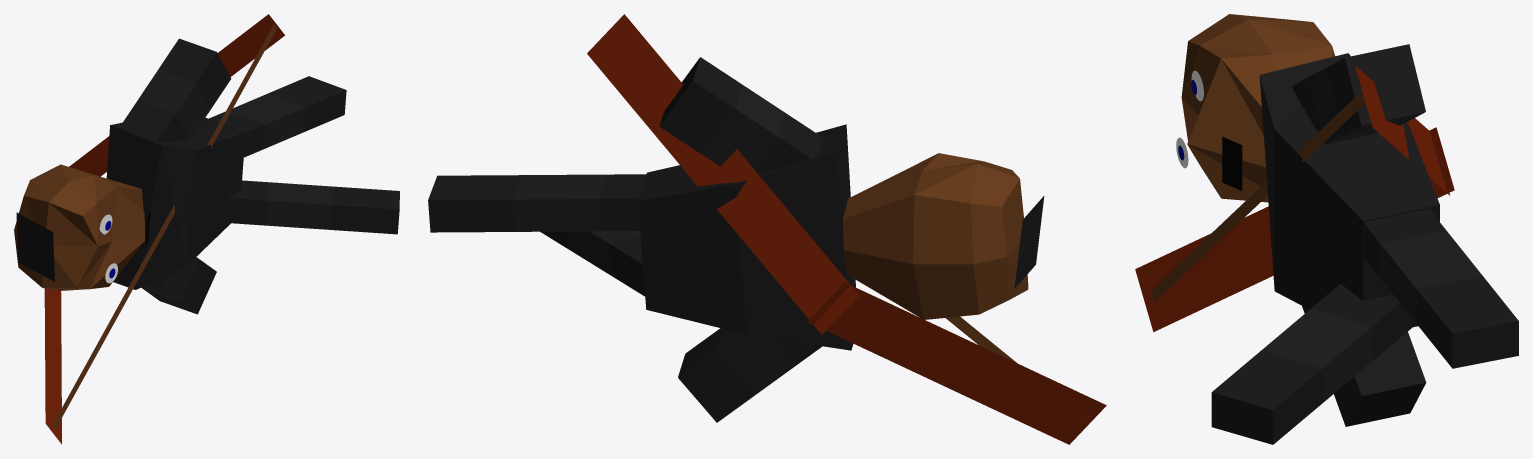
Rendered from heavyarcher3d.obj.
3 renders of one model, left to right at view 1: azimuth 30°, elevation 25°; view 2: azimuth 150°, elevation 25°; view 3: azimuth 270°, elevation 25°, orthographic. The views are drawn at different scales.
Visible parts, largest first — view 1: Cube.001, Cube, Cube.004, Cube.002, Cube.005, Plane.001_Plane.002, Plane.002_Plane.003, Cube.003, Plane.003_Plane.004, Plane.004_Plane.001; view 2: Cube.001, Cube, Plane.001_Plane.002, Plane.002_Plane.003, Cube.005, Cube.002, Cube.003, Cube.004, Plane.004_Plane.001, Plane.003_Plane.004; view 3: Cube.001, Cube.004, Cube, Cube.005, Plane.002_Plane.003, Cube.002, Cube.003, Plane.003_Plane.004, Plane.001_Plane.002, Plane.
Boxes of the visible parts, x1,y1,x2,y2 form: Cube.001: [106, 117, 245, 289]; Cube: [14, 164, 144, 290]; Cube.004: [226, 180, 399, 234]; Cube.002: [121, 38, 231, 141]; Cube.005: [209, 76, 346, 157]; Plane.001_Plane.002: [69, 14, 284, 176]; Plane.002_Plane.003: [44, 288, 61, 444]; Cube.003: [141, 257, 216, 314]; Plane.003_Plane.004: [52, 24, 276, 429]; Plane.004_Plane.001: [16, 212, 54, 281]; Cube.001: [638, 124, 855, 350]; Cube: [843, 153, 1028, 319]; Plane.001_Plane.002: [587, 14, 859, 334]; Plane.002_Plane.003: [807, 282, 1106, 444]; Cube.005: [428, 174, 646, 232]; Cube.002: [659, 57, 824, 173]; Cube.003: [678, 328, 822, 422]; Cube.004: [540, 231, 645, 296]; Plane.004_Plane.001: [1014, 196, 1044, 288]; Plane.003_Plane.004: [946, 316, 1084, 425]; Cube.001: [1259, 53, 1439, 327]; Cube.004: [1211, 284, 1415, 444]; Cube: [1181, 14, 1334, 202]; Cube.005: [1363, 208, 1518, 368]; Plane.002_Plane.003: [1135, 127, 1454, 331]; Cube.002: [1291, 44, 1425, 144]; Cube.003: [1302, 306, 1426, 426]; Plane.003_Plane.004: [1151, 91, 1364, 302]; Plane.001_Plane.002: [1354, 65, 1450, 195]; Plane: [1222, 136, 1242, 190].
Size of the model in its own units: 6.03 by 4.44 by 3.31.
